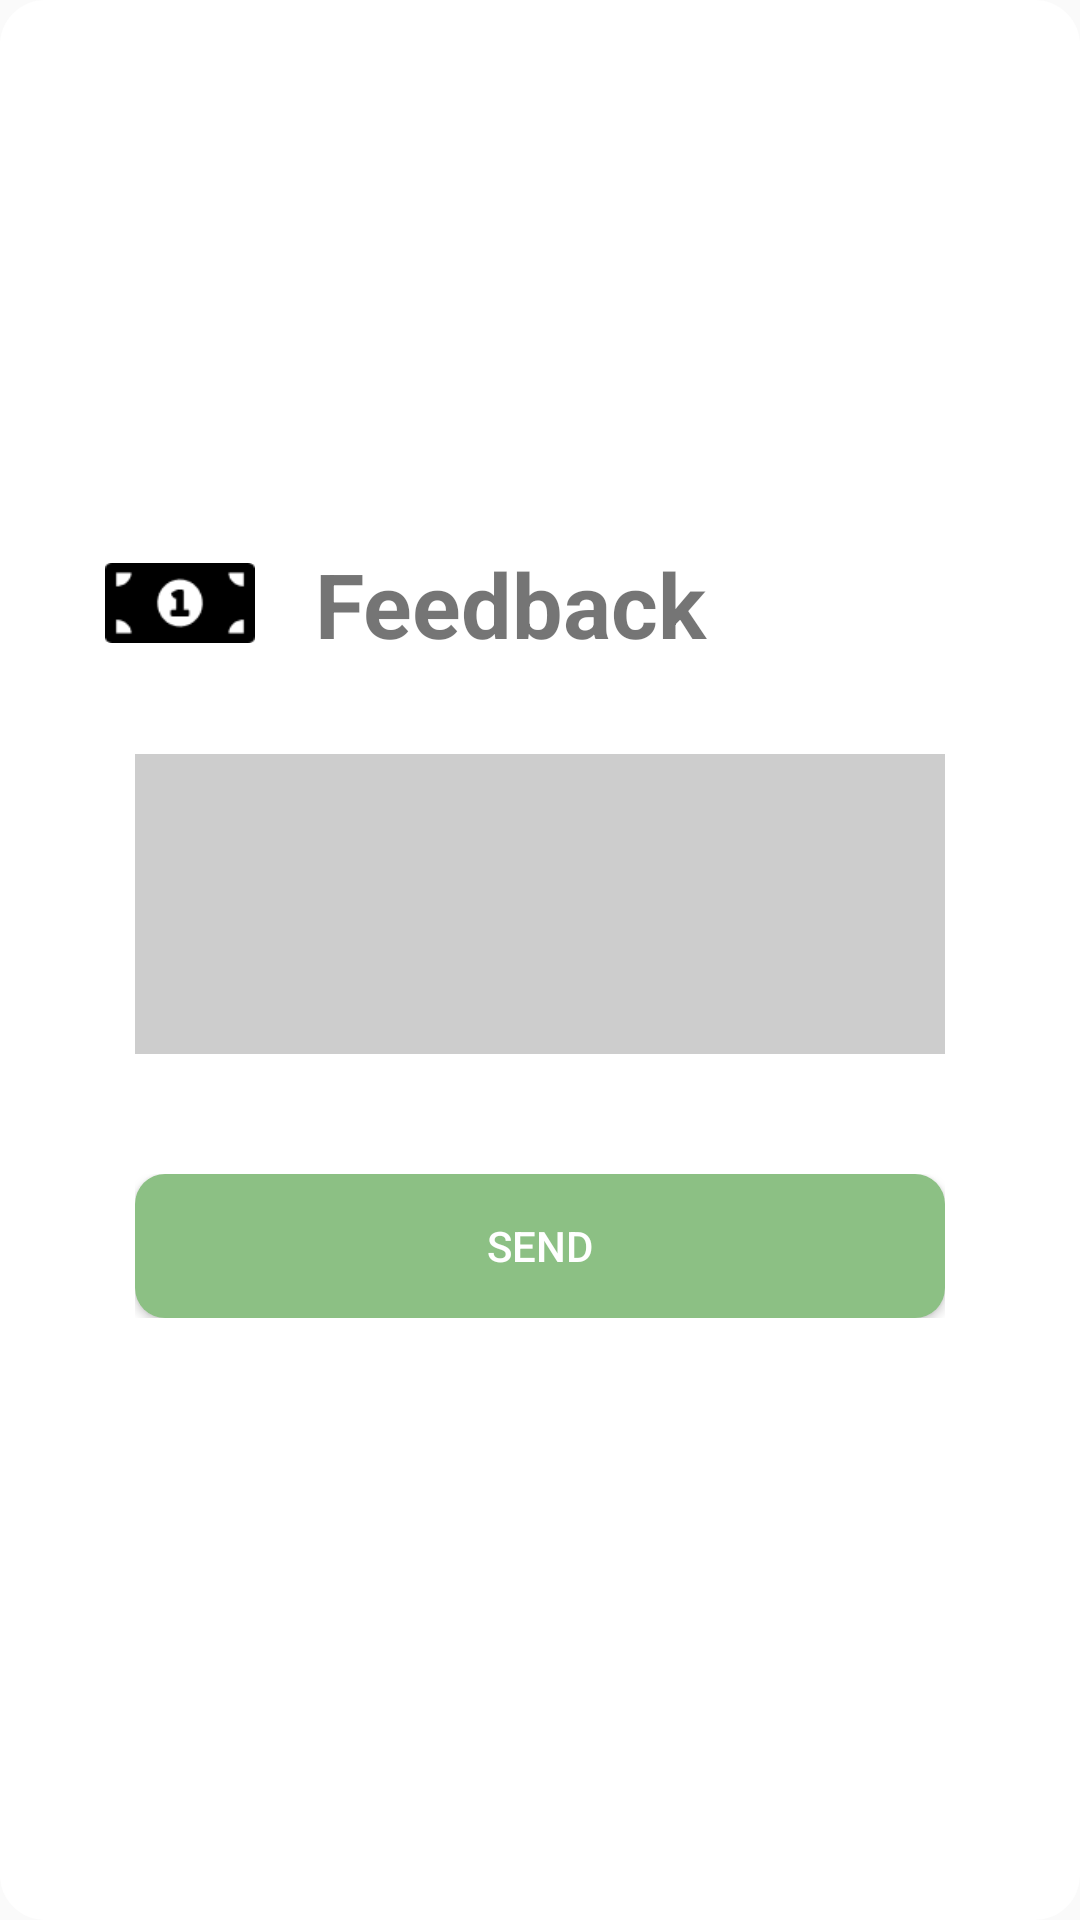

Icon bounding boxes for this 1080w x 1920h phone screenshot, format (x1, y1, x2, y2):
money: (105, 563, 255, 643)
